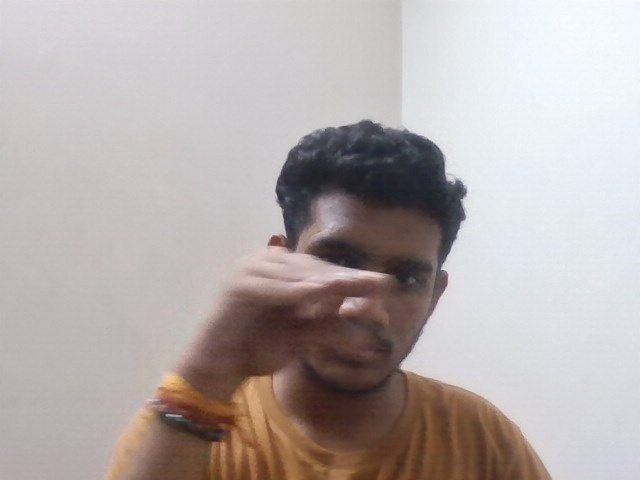no: (162, 235, 407, 393)
